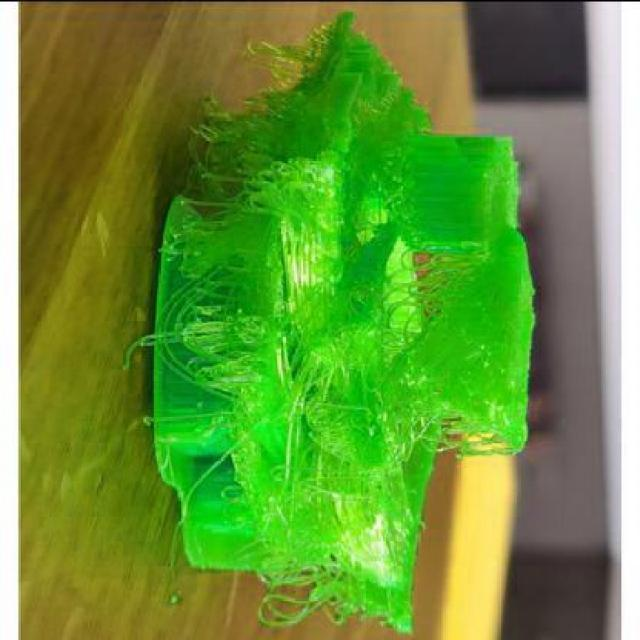spaghetti: (122, 139, 545, 461), (217, 469, 434, 638), (200, 6, 443, 145)
